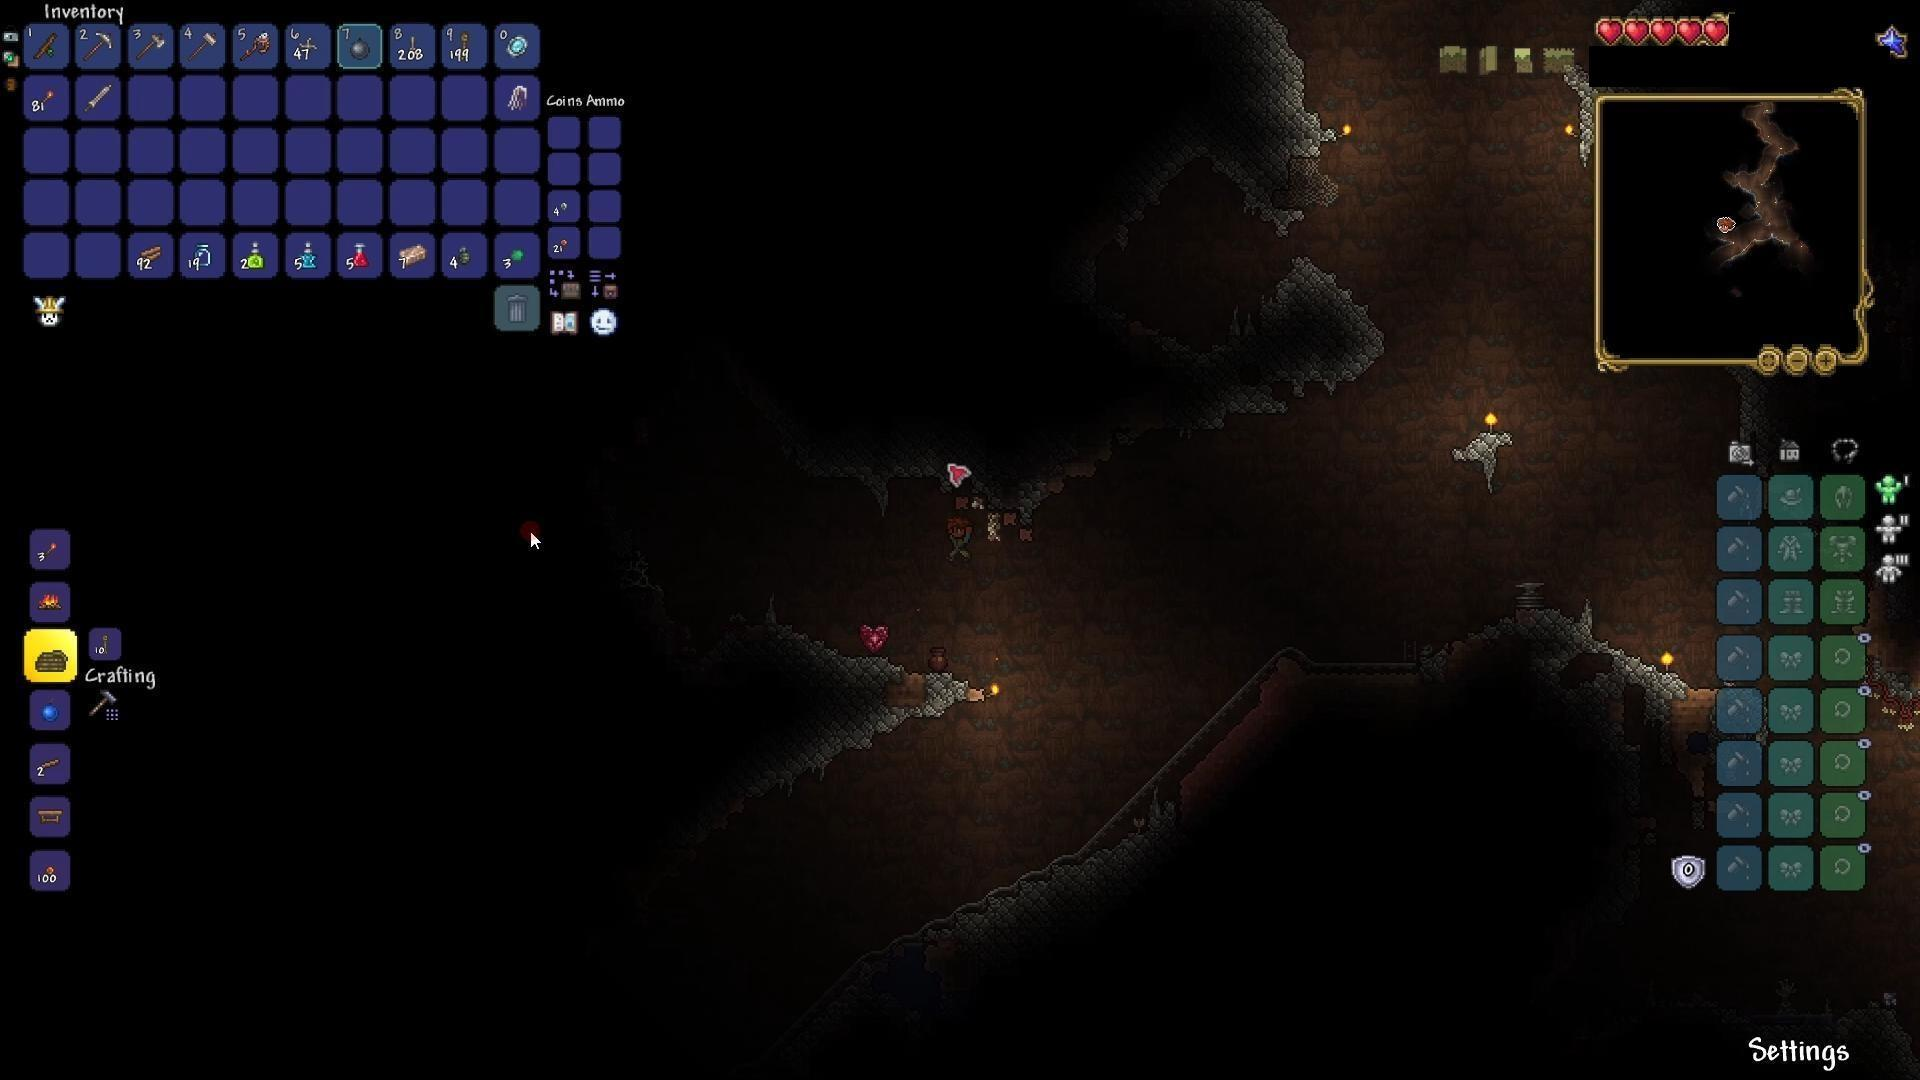heart: (1702, 17, 1733, 51), (1593, 16, 1626, 46), (1676, 15, 1704, 50), (1650, 16, 1676, 49), (1625, 15, 1651, 44)
stone: (971, 825, 1167, 957), (1290, 257, 1389, 396), (815, 655, 952, 753), (791, 425, 936, 493), (1572, 618, 1700, 691), (1274, 24, 1332, 164), (1453, 423, 1522, 481), (1567, 65, 1598, 160)
